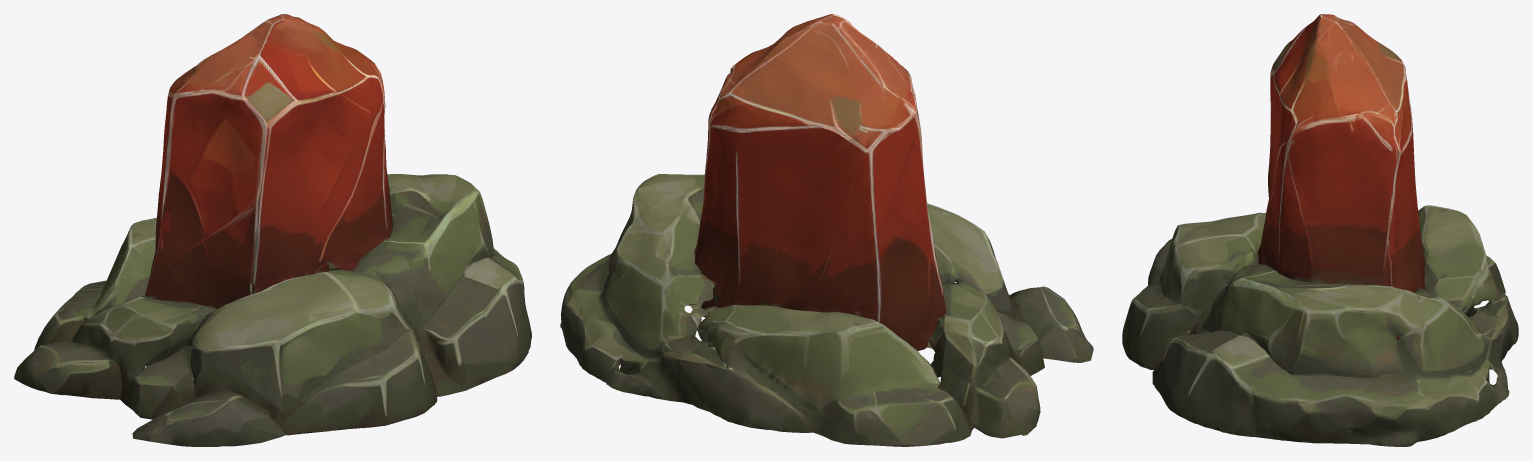
File: item_cinnabar.glb
3 renders of one model, left to right at view 1: azimuth 30°, elevation 25°; view 2: azimuth 150°, elevation 25°; view 3: azimuth 270°, elevation 25°, orthographic. The views are drawn at different scales.
Parts seen in each view (by area): view 1: item_cinnabar; view 2: item_cinnabar; view 3: item_cinnabar.
Boxes of the visible parts, x1,y1,x2,y2 form: item_cinnabar: [14, 14, 531, 446]; item_cinnabar: [560, 14, 1093, 446]; item_cinnabar: [1122, 14, 1518, 446].
Bounding box in the file's own units: 0.15 × 0.1041 × 0.1158.
1 material, 1 textured.
